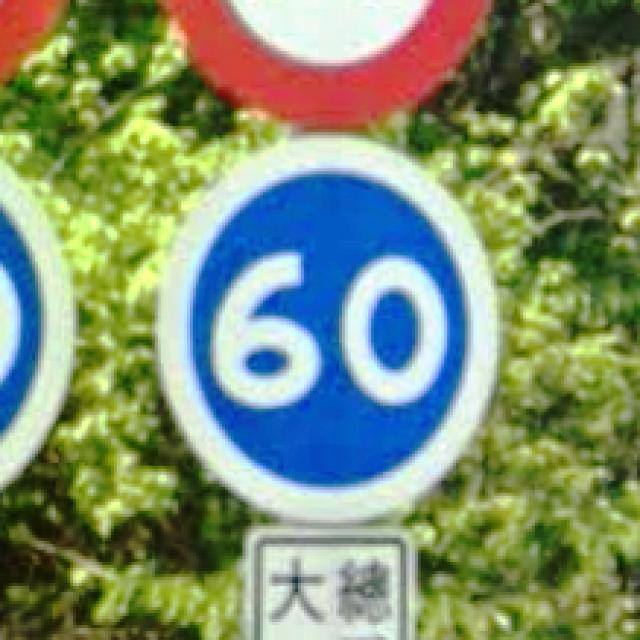min60: (145, 131, 522, 527)
